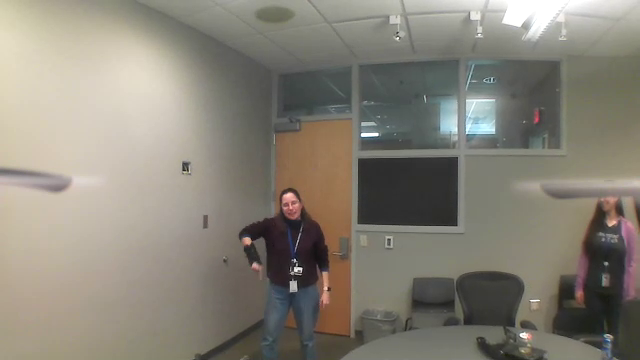down: (249, 258, 267, 284)
